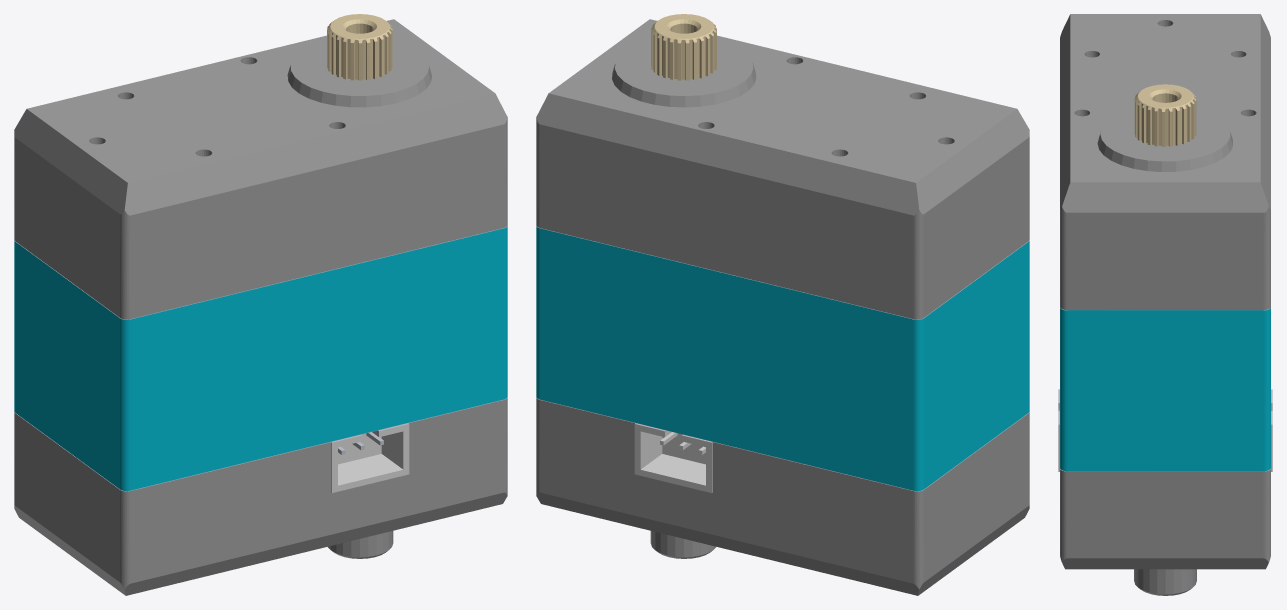
The model's file is Hiwonder_LX_225_Assembly__Hiwonder_LX_225_servo_1.3dxml.glb.
The picture shows the model from 3 angles, left to right: view 1: azimuth 30°, elevation 25°; view 2: azimuth 150°, elevation 25°; view 3: azimuth 270°, elevation 25°; orthographic projection. The views are drawn at different scales.
Parts seen in each view (by area): view 1: Hiwonder LX-225 servo; view 2: Hiwonder LX-225 servo; view 3: Hiwonder LX-225 servo.
Part boxes in pixels (x1,y1,x2,y2): Hiwonder LX-225 servo: [14, 14, 507, 595]; Hiwonder LX-225 servo: [536, 14, 1029, 595]; Hiwonder LX-225 servo: [1058, 14, 1272, 595].
Size of the model in its own units: 0.0401 by 0.0515 by 0.0205.
